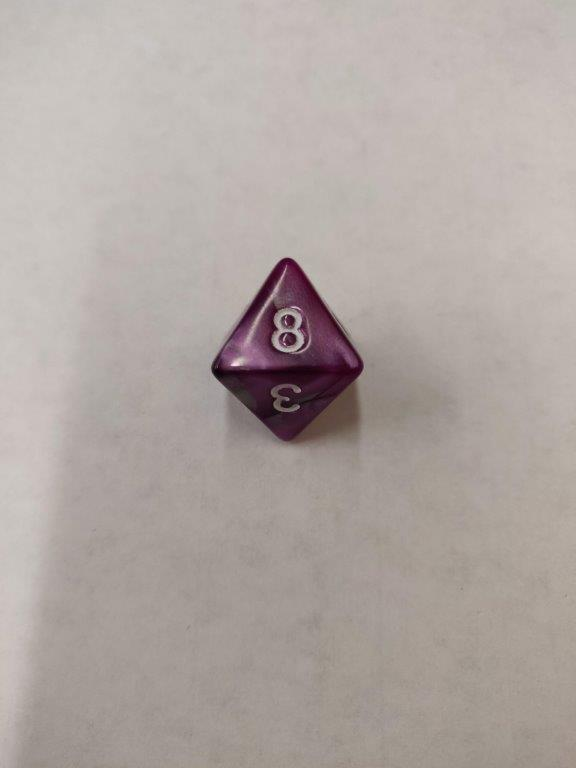d8-8: (206, 251, 367, 453)
